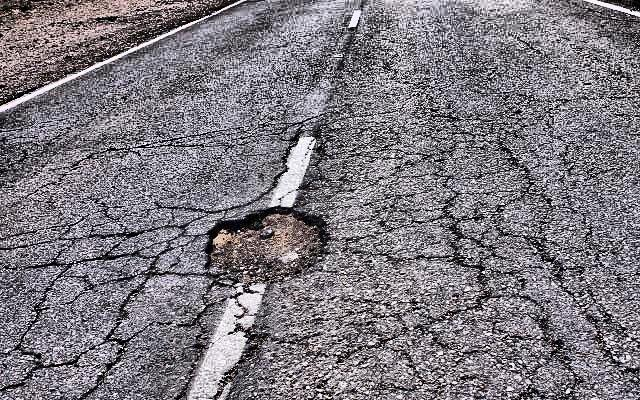pothole: (201, 202, 331, 284)
